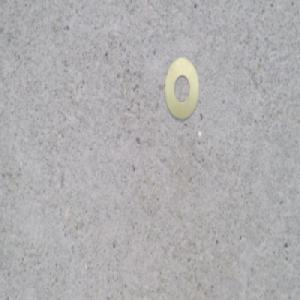Washer: (164, 56, 201, 121)
